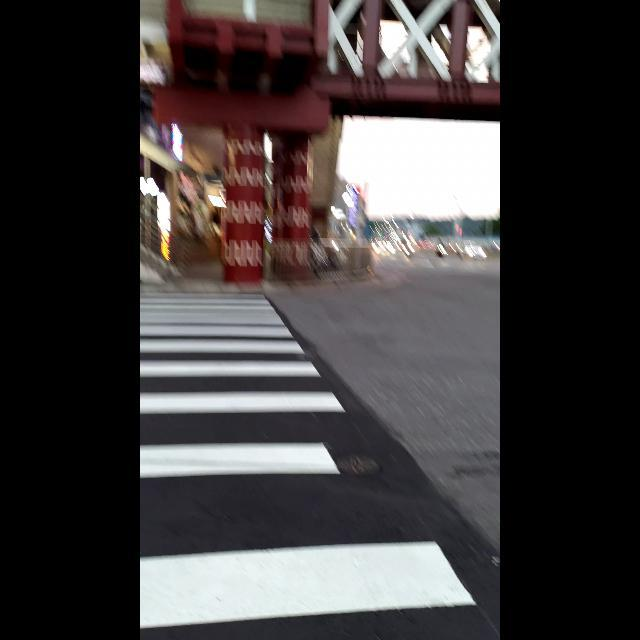sidewalk: (141, 288, 500, 639)
